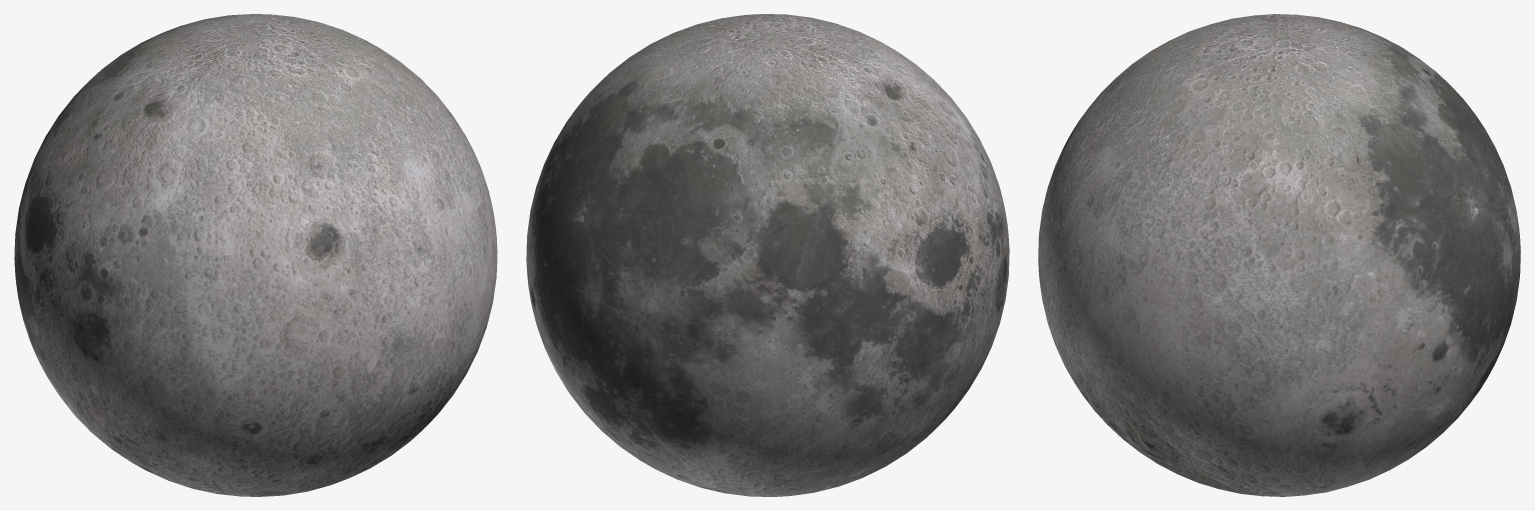
File: moon.fbx
3 views of the same model, side by side, from view 1: azimuth 30°, elevation 25°; view 2: azimuth 150°, elevation 25°; view 3: azimuth 270°, elevation 25° (orthographic).
Parts seen in each view (by area): view 1: moon; view 2: moon; view 3: moon.
Boxes of the visible parts, box(x1,y1,x2,y2) form: moon: box(14, 14, 497, 496); moon: box(526, 14, 1009, 496); moon: box(1038, 14, 1520, 496).
Size of the model in its own units: 9992 by 10000 by 9992.
